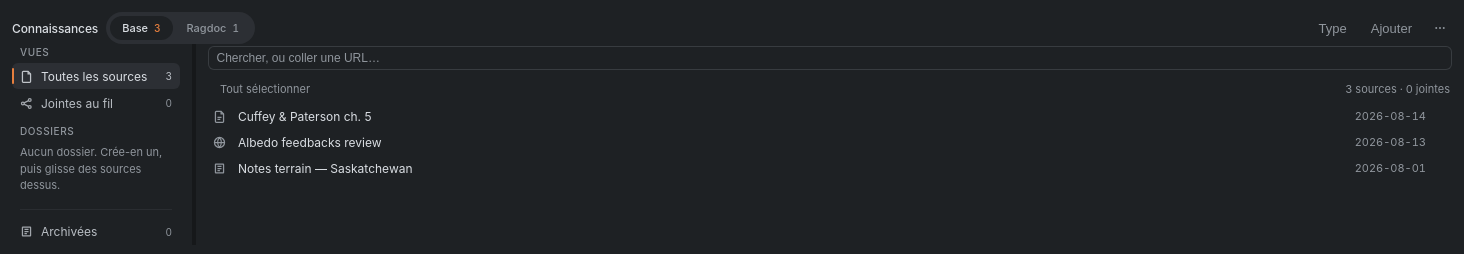
Scenario: KbSurface › la barre filtre la liste
The width and height of the screenshot is (1464, 254).
Type "saskatchewan" into the field with placeholder "Chercher, ou coller une URL…" at (830, 58), box 208,46 -> 1452,70
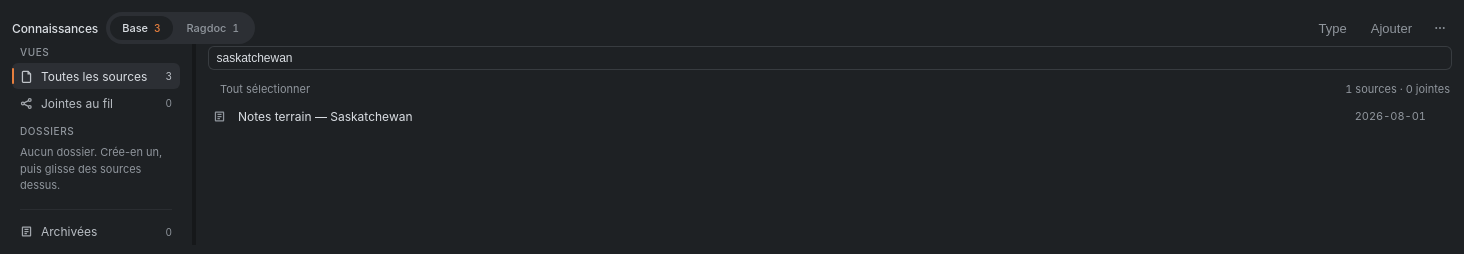
Expected: the text "Notes terrain — Saskatchewan" is shown, 238,108 -> 412,124
Expected: the button "Cuffey & Paterson ch. 5" is gone
